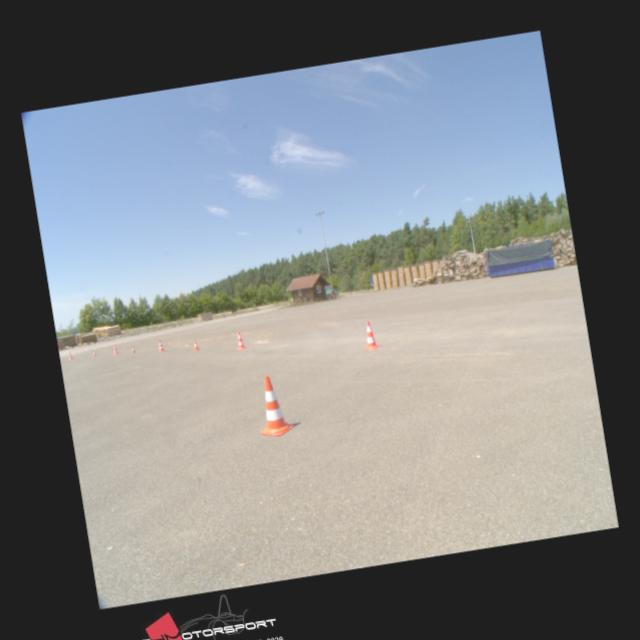large_orange_cone: (252, 372, 294, 438), (360, 320, 380, 350), (234, 330, 246, 350), (157, 338, 165, 352), (112, 344, 118, 356)
orange_cone: (192, 340, 200, 350), (132, 346, 136, 354), (93, 351, 97, 356)
